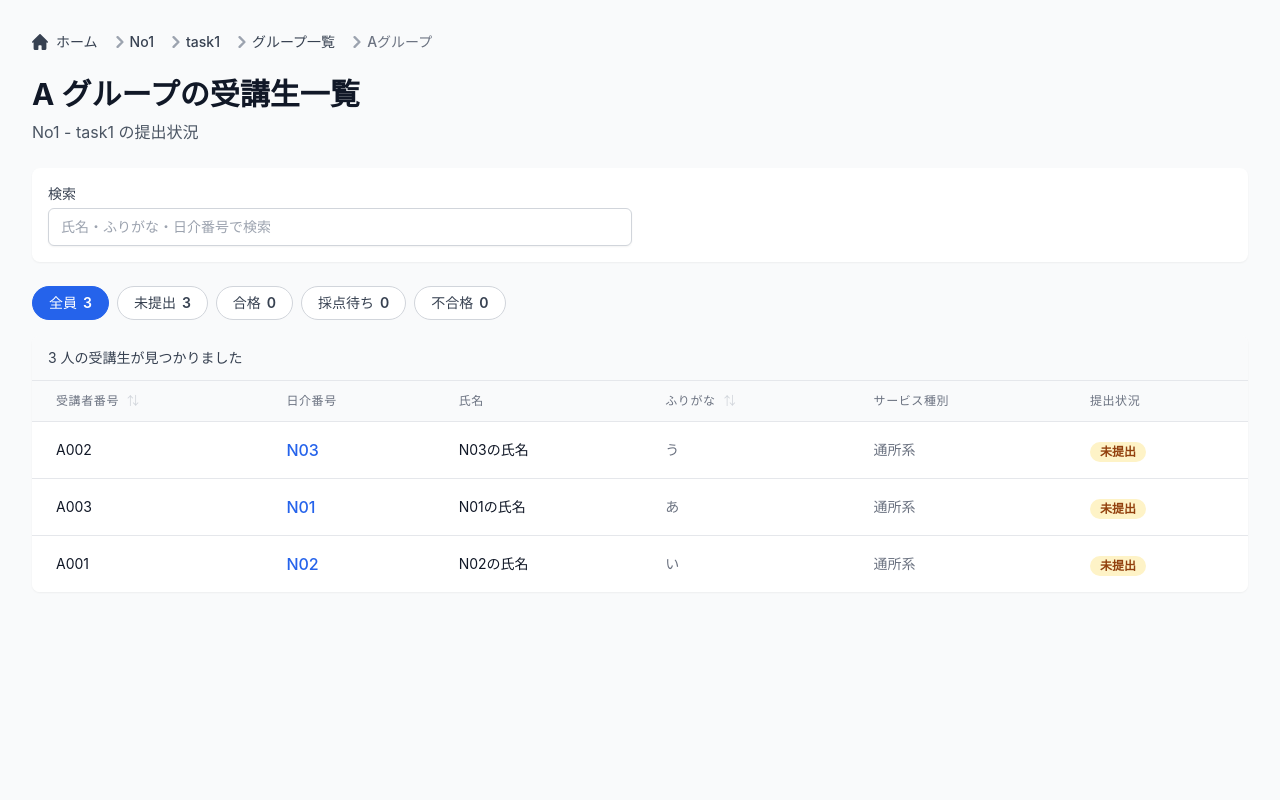
Test: GroupStudentsView (responsive table / cards) › 受講者番号の列（表・1280px 以上） › should sort by the header and show the direction indicator
Click the column heading "受講者番号 ⇅".
click(88, 400)  # box [32,381,262,422]
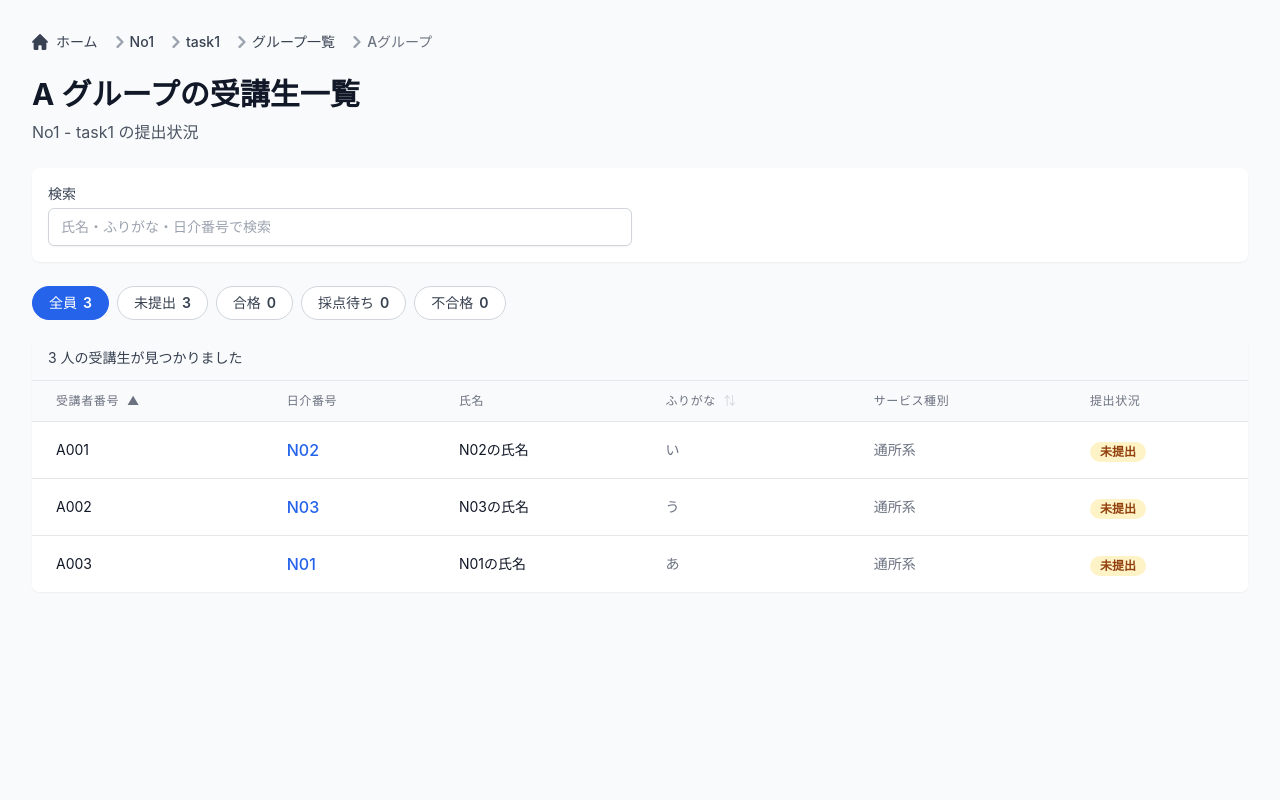
Check: the column heading "受講者番号 ▲" is shown
Click the column heading "受講者番号 ▲".
click(88, 400)  # box [32,381,263,422]
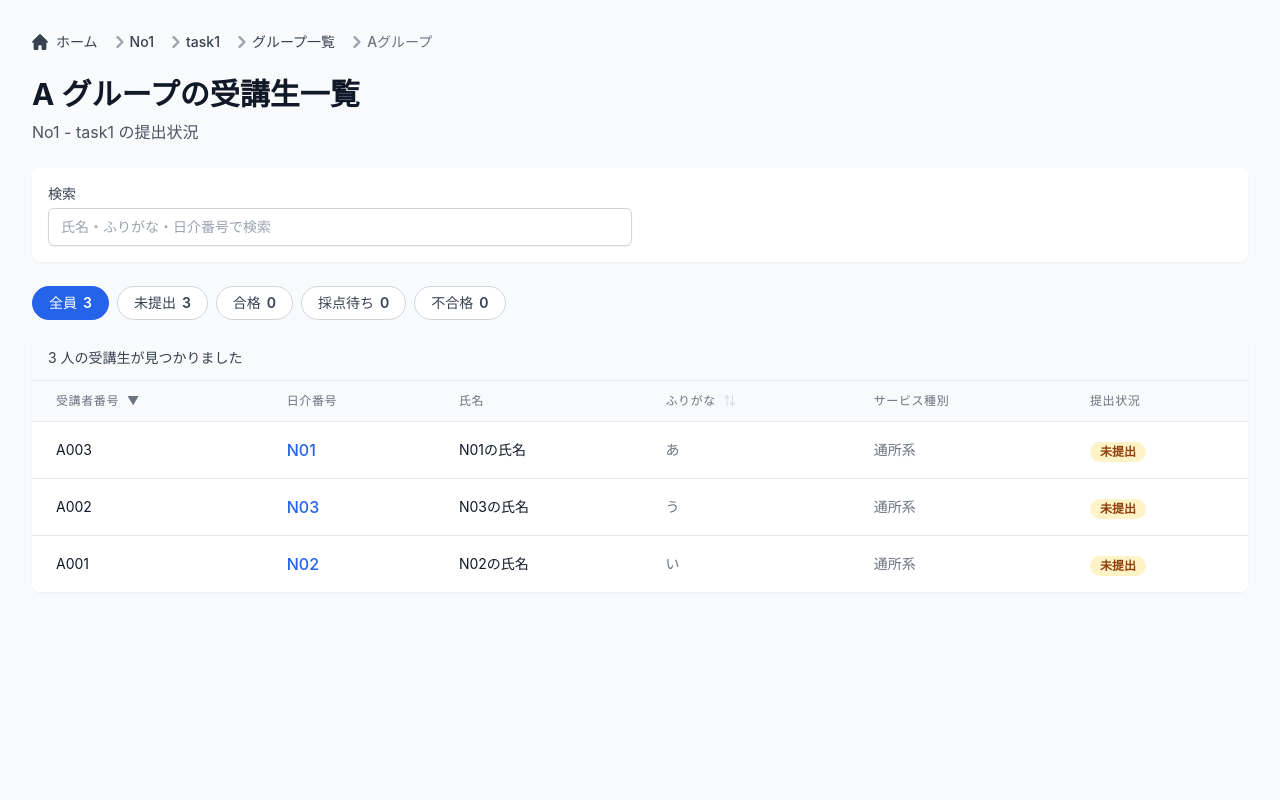
Check: the column heading "受講者番号 ▼" is shown, box [32,381,263,422]
